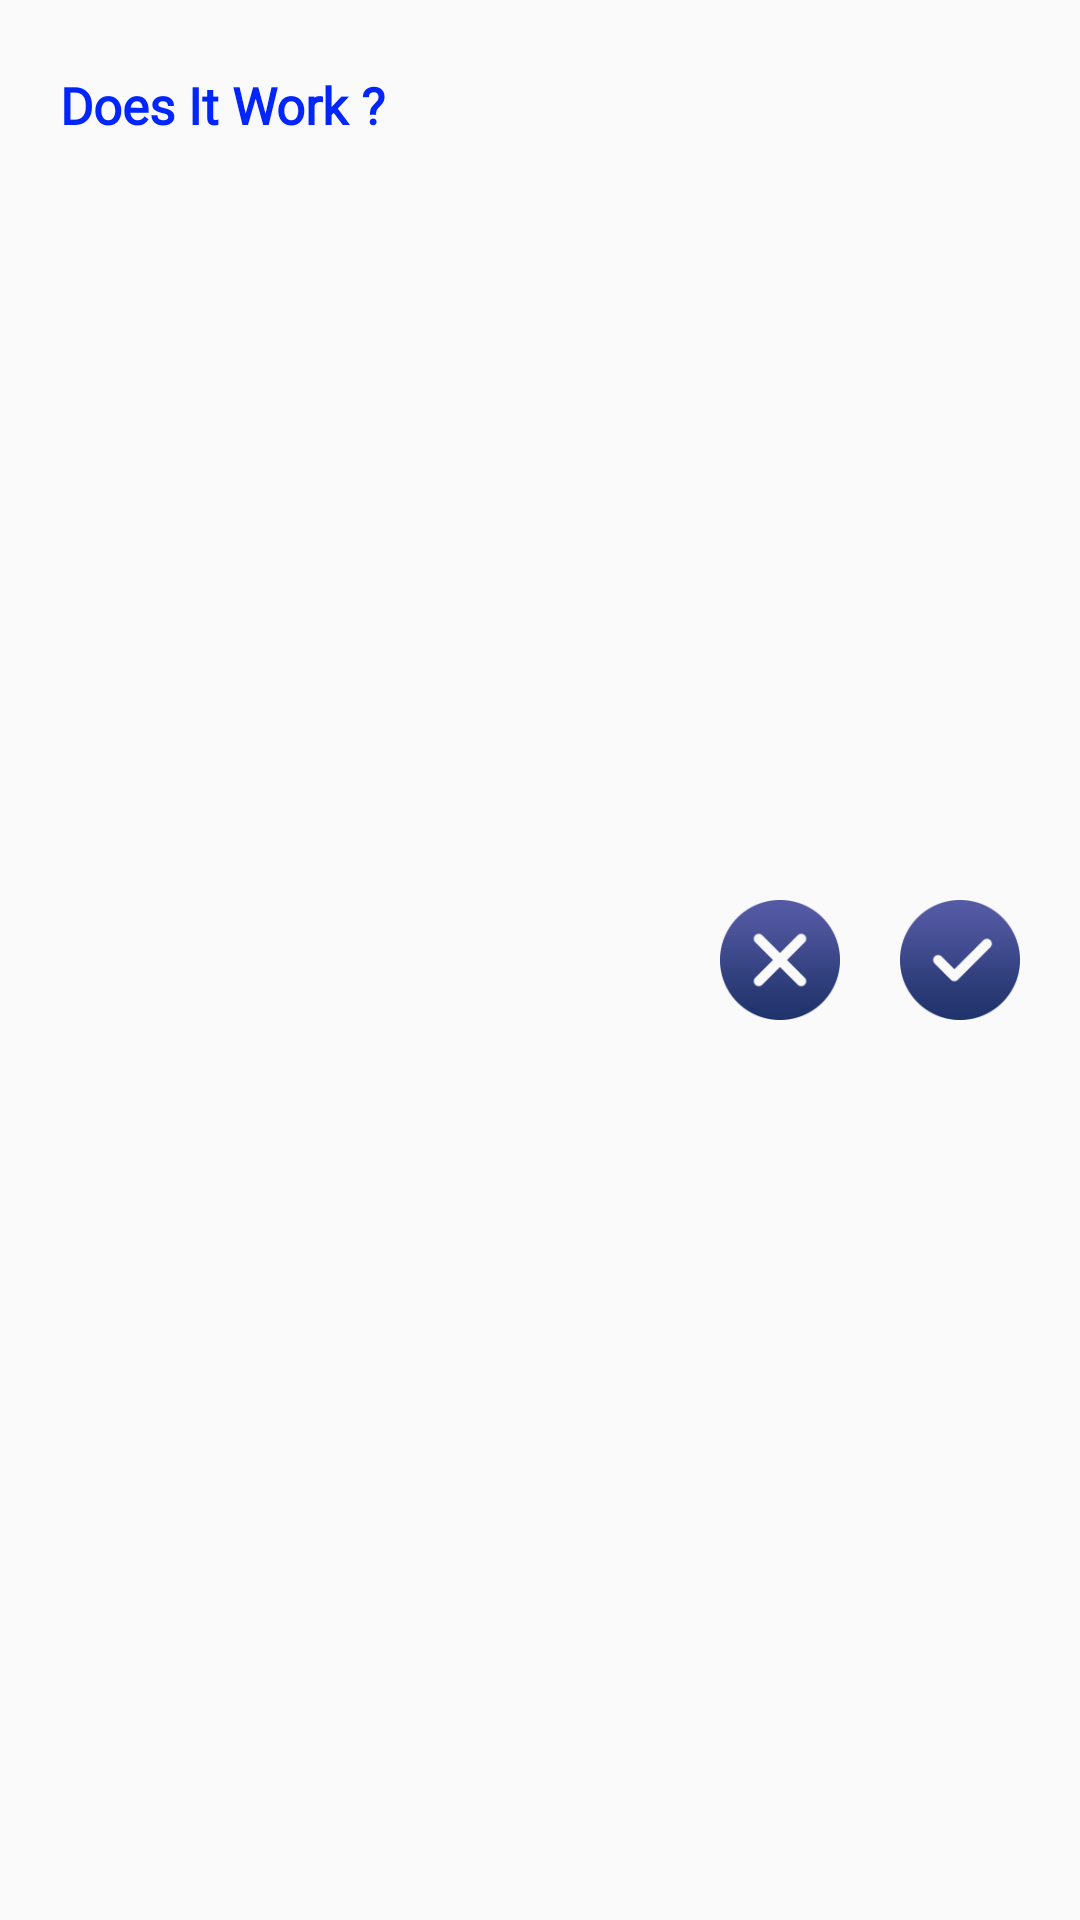

Screen size 1080px x 1920px. Icon name, then its center in pixels as (x,y):
bottom close: (780,960)
bottom done: (960,960)
